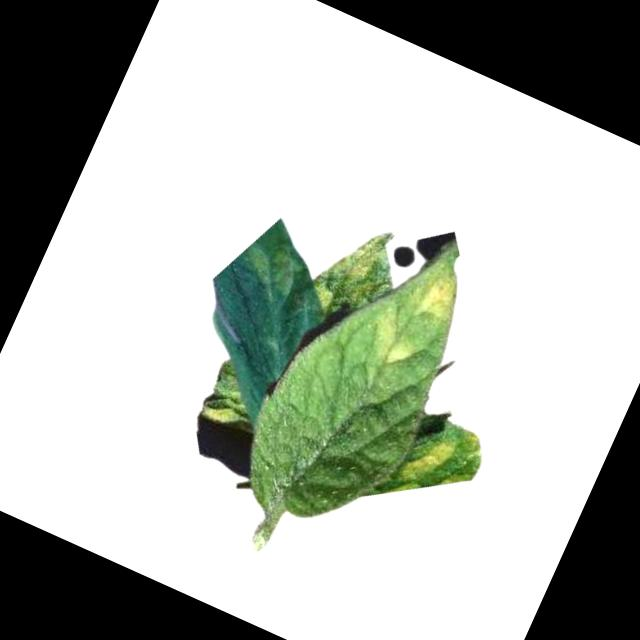Leaf_Mold: (303, 214, 397, 330), (393, 411, 488, 513), (237, 231, 314, 302), (405, 259, 475, 335), (366, 306, 430, 371), (198, 386, 243, 428)
